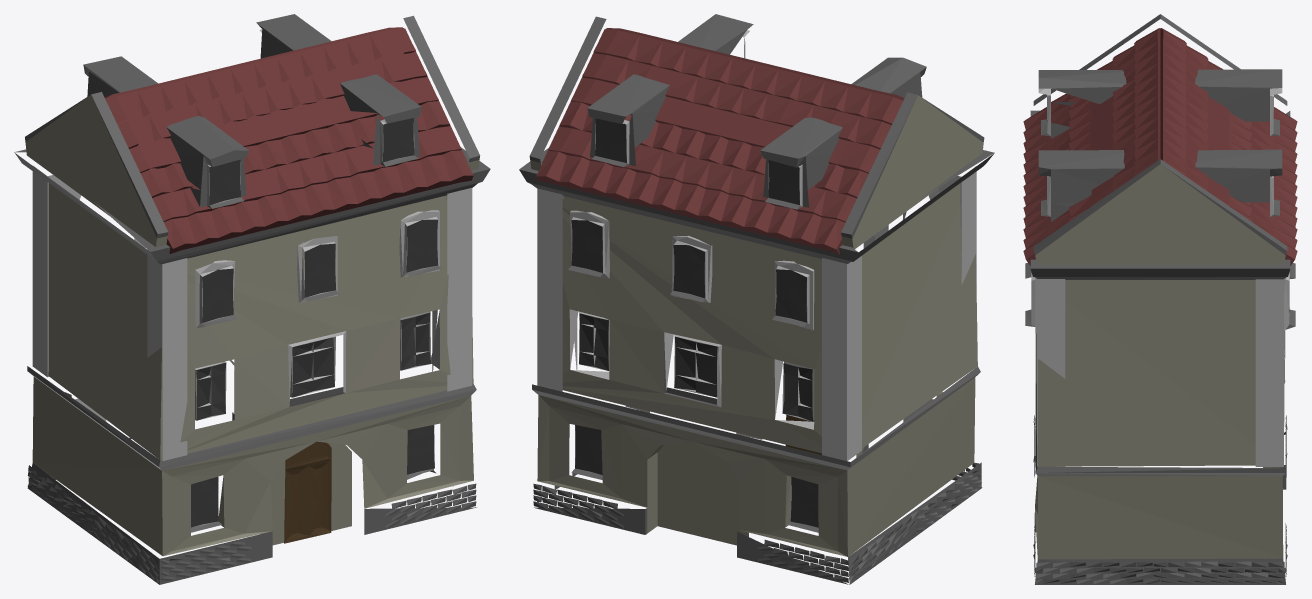
Rendered from city-narrow.glb.
The picture shows the model from 3 angles, left to right: view 1: azimuth 30°, elevation 25°; view 2: azimuth 150°, elevation 25°; view 3: azimuth 270°, elevation 25°; orthographic projection. The views are drawn at different scales.
Parts seen in each view (by area): view 1: Building1_Small_Plane.003; view 2: Building1_Small_Plane.003; view 3: Building1_Small_Plane.003.
Boxes of the visible parts, <box> form: Building1_Small_Plane.003: <box>14,14,490,584</box>; Building1_Small_Plane.003: <box>519,14,994,584</box>; Building1_Small_Plane.003: <box>1023,14,1297,584</box>.
Size of the model in its own units: 8.24 by 10.26 by 6.04.
